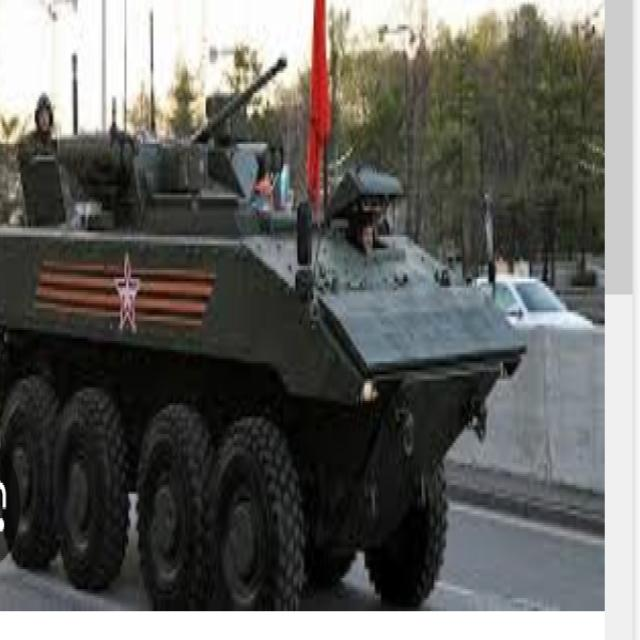MIL_APC: (0, 106, 517, 629)
